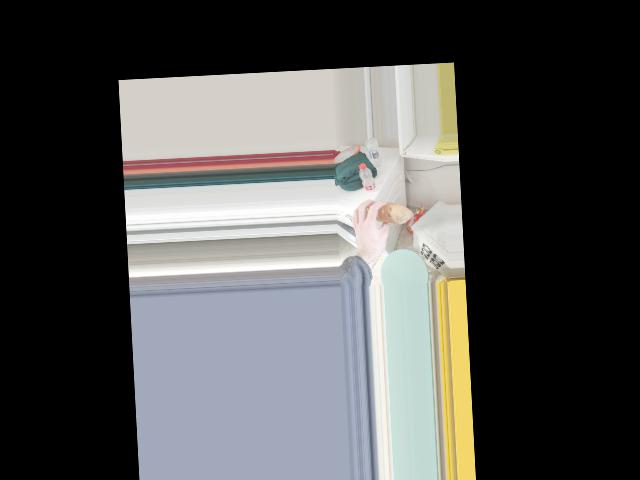sweet_potato: (370, 203, 404, 221)
